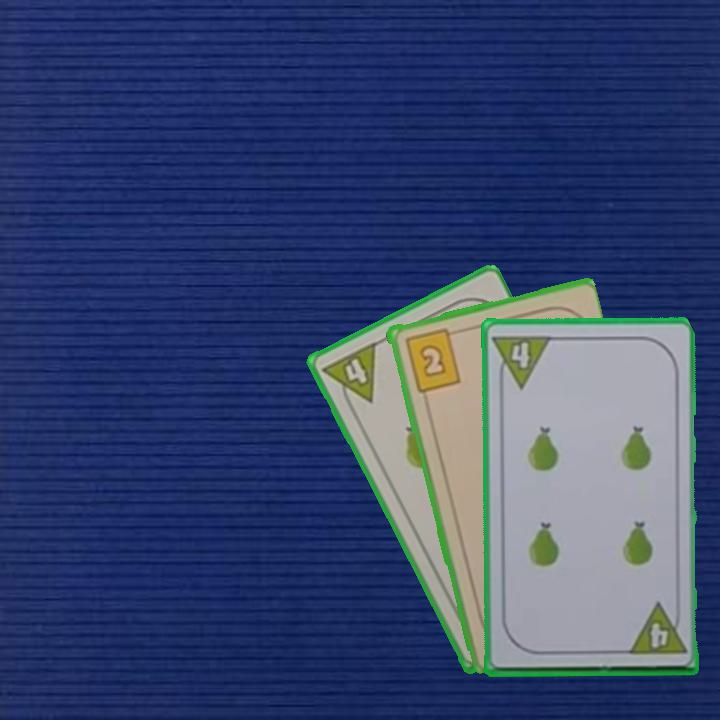2b: (400, 324, 463, 395)
4p: (319, 338, 379, 415), (489, 331, 554, 391), (624, 600, 689, 658)
